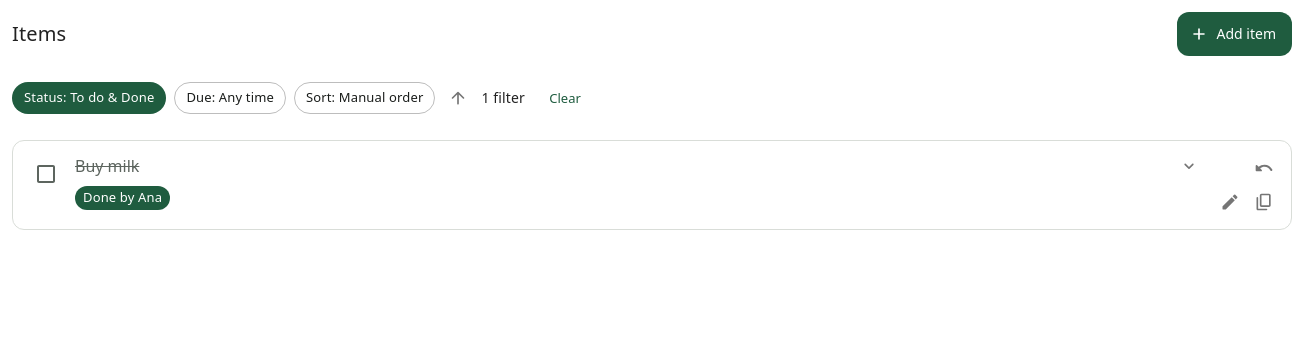
ItemsSection › shows the detail and the completion note only once a row is expanded
The image size is (1304, 346).
Expected: the text "Buy milk" is shown, [75,155,139,177]
Expected: the text "Semi-skimmed" is not shown
// Exact: the row's other buttons all mention the description too.
Click the button "Buy milk": (107, 166) [71,154,1203,178]
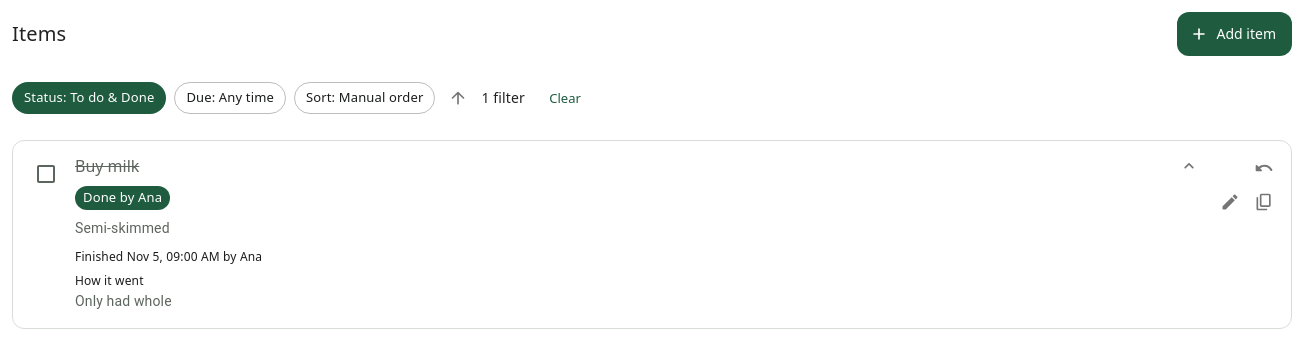
Result: the text "Semi-skimmed" is shown at [75,220,170,236]
Result: the text "Only had whole" is shown at [75,293,172,309]
Result: the text "Finished Nov 5, 09:00 AM by Ana" is shown at [75,248,262,265]
